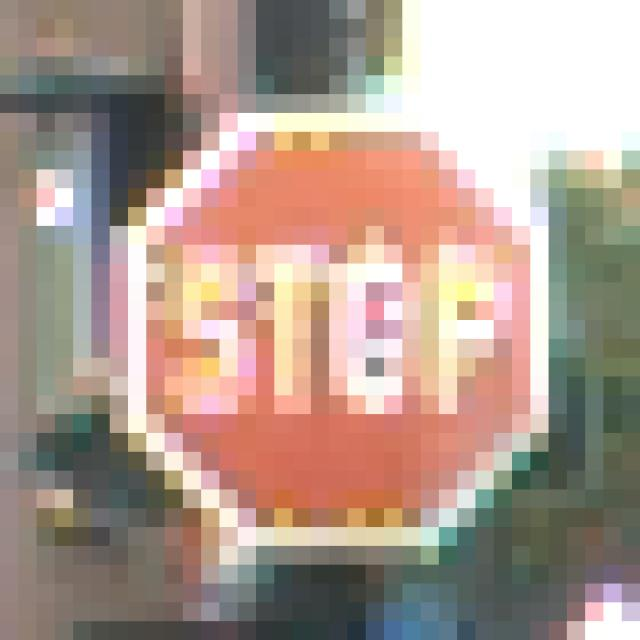STOP: (111, 95, 550, 547)
